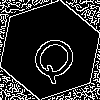Q: (25, 25, 88, 87)
